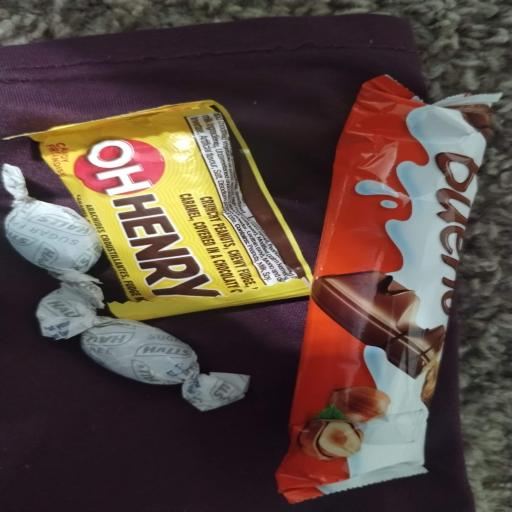chocolate: (277, 76, 500, 502), (29, 101, 310, 319), (37, 283, 249, 410), (2, 164, 101, 281)
